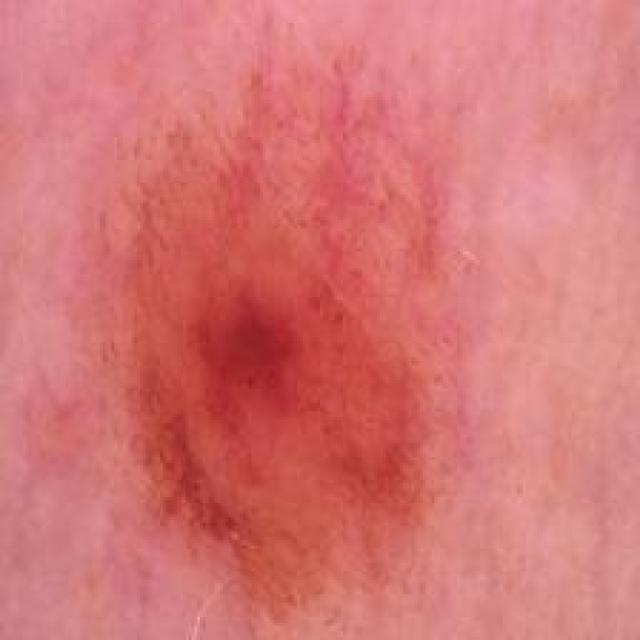Cancer: (107, 98, 458, 636)
